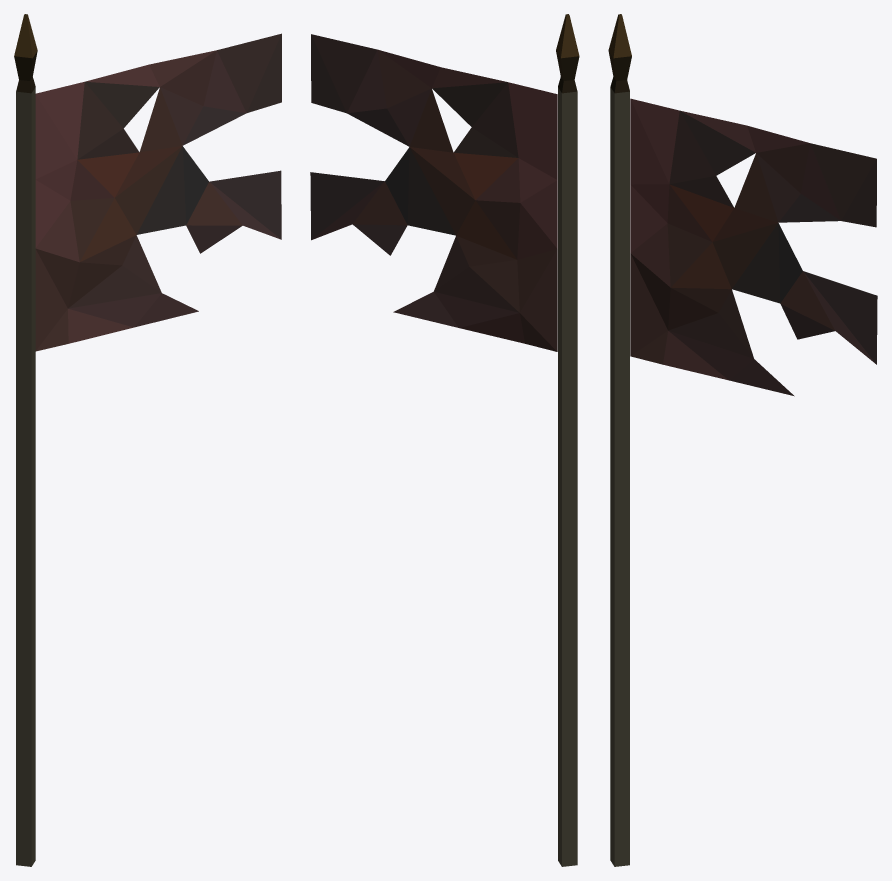
The model's file is Prop_FlagSquareAWorn.fbx.
3 renders of one model, left to right at view 1: azimuth 30°, elevation 25°; view 2: azimuth 150°, elevation 25°; view 3: azimuth 330°, elevation 25°, orthographic.
Visible parts, largest first — view 1: Prop_FlagSquareAWorn; view 2: Prop_FlagSquareAWorn; view 3: Prop_FlagSquareAWorn.
Boxes of the visible parts, x1,y1,x2,y2 form: Prop_FlagSquareAWorn: (14,14,281,866); Prop_FlagSquareAWorn: (310,14,579,866); Prop_FlagSquareAWorn: (608,14,877,866).
Bounding box in the file's own units: 136 × 411 × 11.99.
